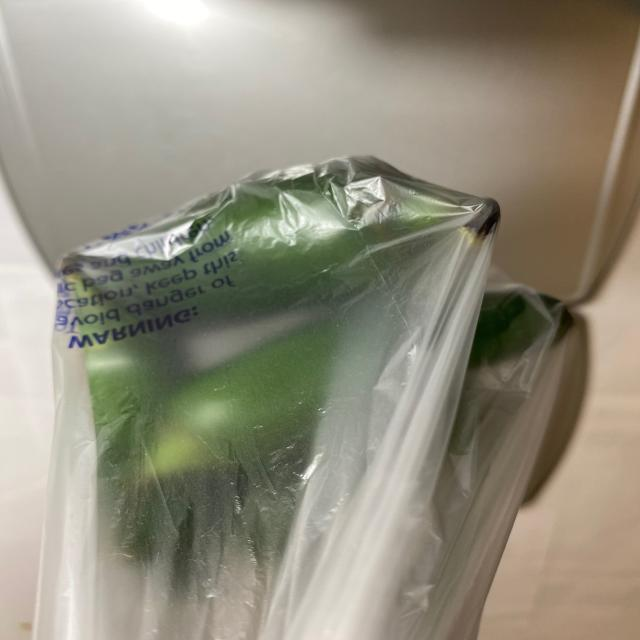chilli: (33, 152, 591, 580)
